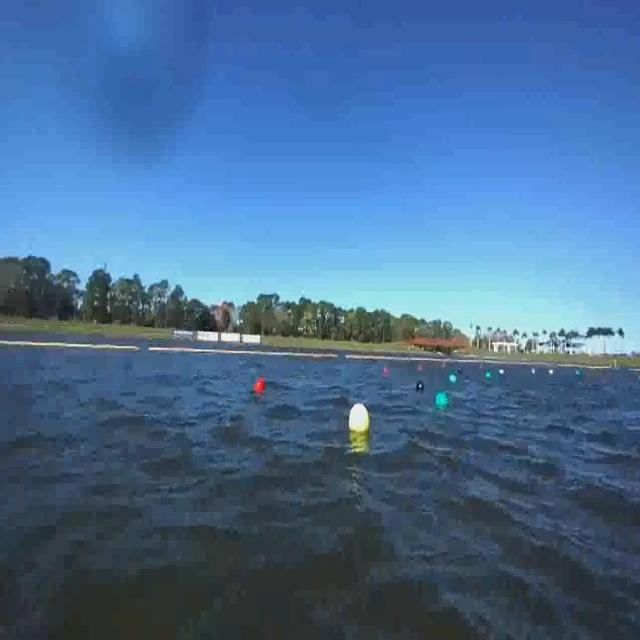black-buoy: (417, 381, 425, 393)
green-buoy: (437, 390, 450, 409), (448, 372, 456, 384)
red-buoy: (254, 378, 264, 394), (257, 376, 267, 392)
yellow-buoy: (350, 404, 370, 435)
